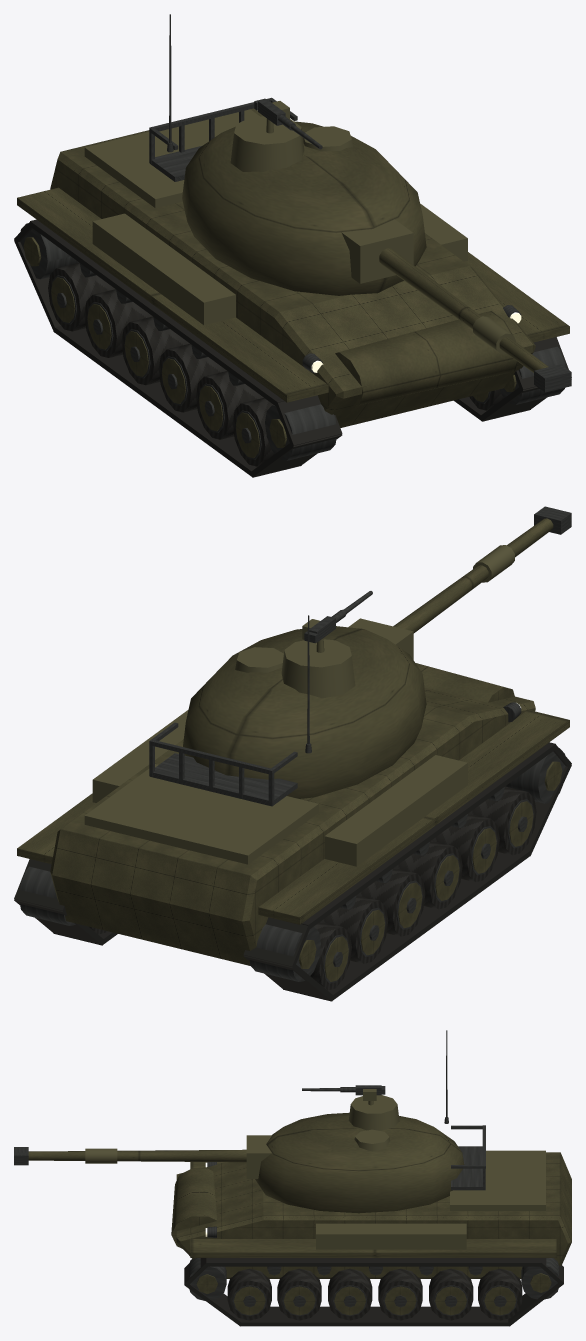
Rendered from m48a3_patton_lod1.glb.
The picture shows the model from 3 angles, top to bottom: view 1: azimuth 30°, elevation 25°; view 2: azimuth 150°, elevation 25°; view 3: azimuth 270°, elevation 25°; orthographic projection. The views are drawn at different scales.
Visible parts, largest first — view 1: M48A3_Patton_MBT; view 2: M48A3_Patton_MBT; view 3: M48A3_Patton_MBT.
Part boxes in pixels (box(x1,y1,x2,y2)): M48A3_Patton_MBT: box(14, 14, 571, 477); M48A3_Patton_MBT: box(14, 506, 571, 1001); M48A3_Patton_MBT: box(14, 1030, 571, 1326).
Size of the model in its own units: 3.6 by 4.07 by 9.06.
6 materials, 3 textured.
